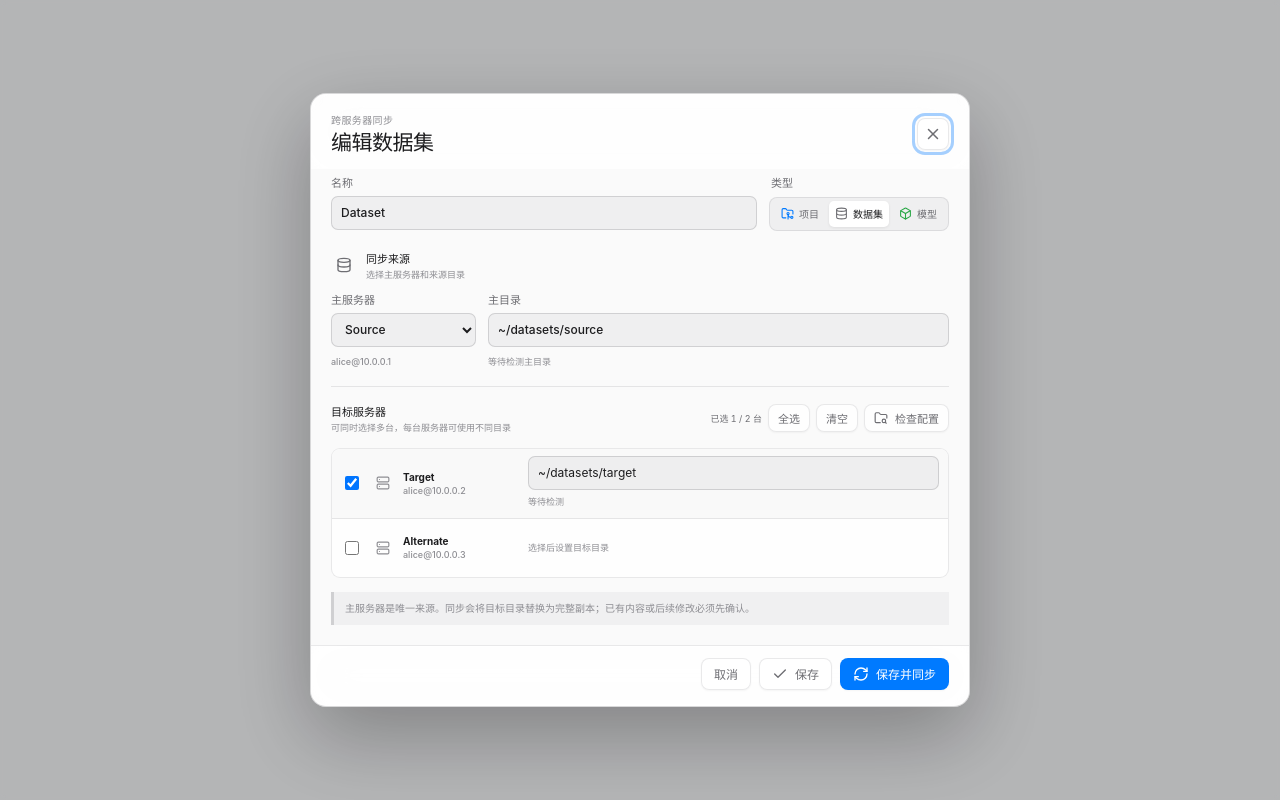
Test: ProjectForm focus management › keeps unselected target servers visible and selectable
Expected: the element showing "Alternate alice@10.0.0.3 选择后设置目标目录" is shown, left=345, top=535, right=609, bottom=560
Click the checkbox labelled "Alternate alice@10.0.0.3".
click(352, 548)  # box left=345, top=541, right=359, bottom=555
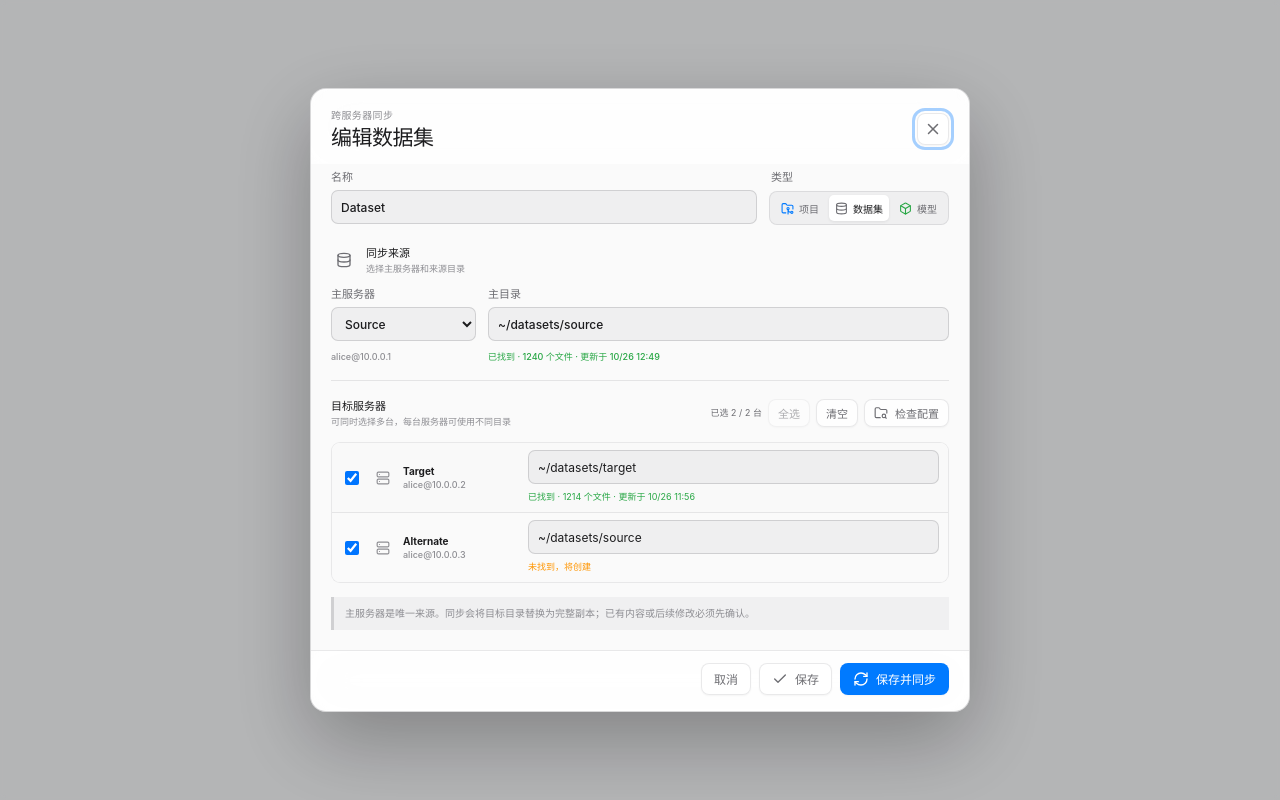
Now the dropdown named "Alternate 目标目录" is shown, box left=528, top=520, right=939, bottom=554
